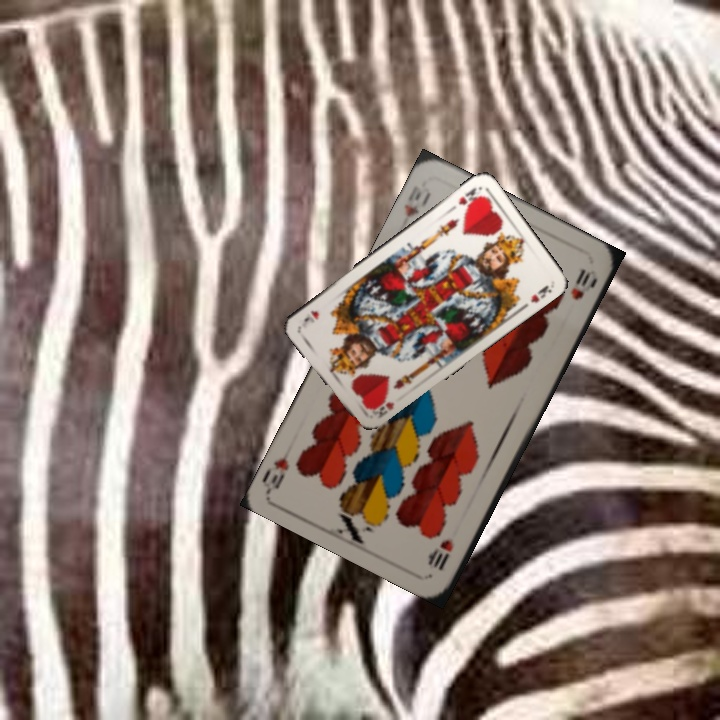H10: (400, 181, 434, 220), (426, 535, 456, 574)
HK: (447, 183, 484, 214), (366, 392, 397, 421)
